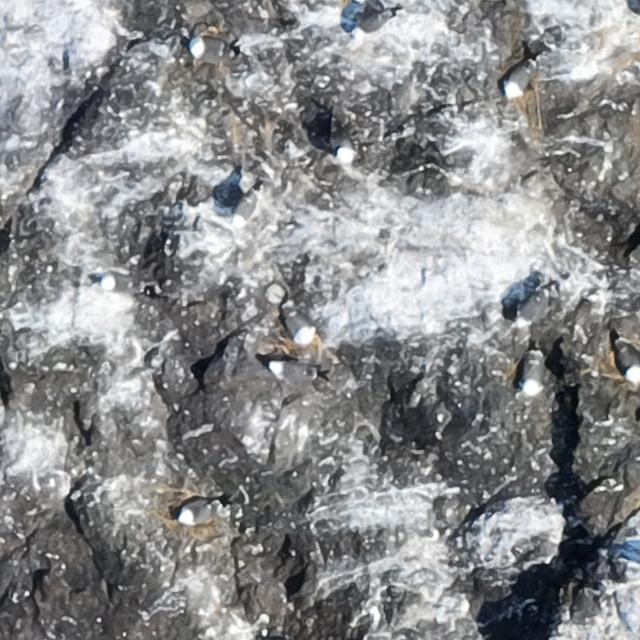umineko: (518, 287, 552, 329), (284, 304, 315, 346), (351, 13, 392, 34), (179, 500, 213, 525), (101, 271, 141, 292), (505, 65, 530, 97), (232, 192, 257, 224), (520, 355, 540, 394), (618, 344, 639, 380), (189, 41, 226, 61), (270, 361, 304, 380), (334, 125, 352, 160)
